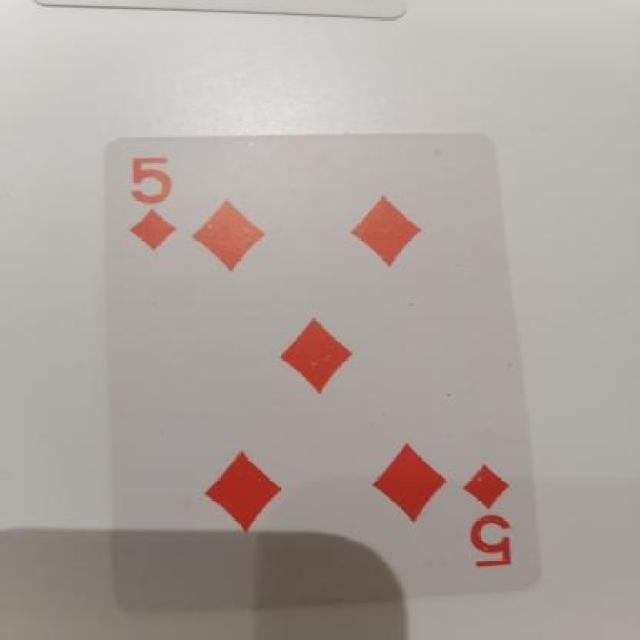5D: (452, 452, 533, 573), (115, 148, 191, 267)
